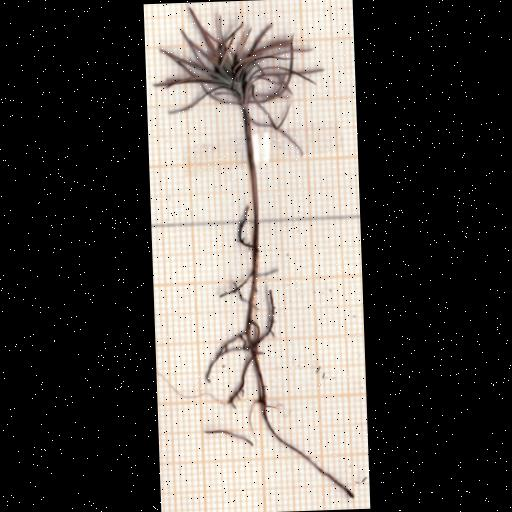flowerCedr: (157, 8, 313, 124)
rootCedr: (205, 271, 351, 497)
stemCedr: (241, 107, 260, 283)
